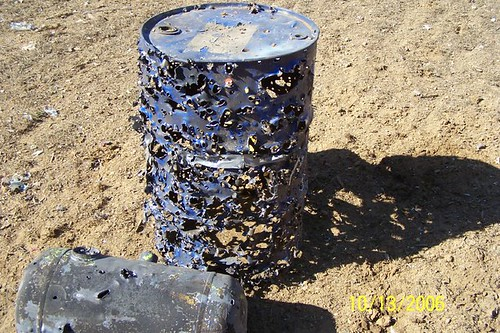barrell: (136, 3, 326, 286)
dirt: (1, 1, 493, 329)
